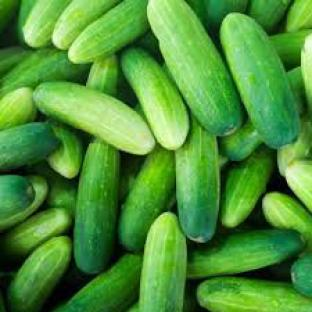Cucumber: (221, 13, 299, 148), (35, 82, 155, 153), (121, 48, 188, 149), (74, 139, 119, 274), (118, 146, 176, 250), (188, 229, 305, 278), (175, 117, 220, 242), (55, 254, 142, 311), (7, 236, 72, 311), (139, 213, 187, 311), (221, 146, 275, 227), (0, 49, 88, 95), (0, 208, 72, 263), (197, 278, 311, 311), (0, 123, 59, 170), (0, 175, 48, 231), (28, 163, 77, 217), (263, 192, 311, 246), (48, 121, 84, 178), (278, 116, 311, 176), (220, 120, 262, 160), (0, 175, 34, 224), (0, 88, 37, 130), (271, 30, 311, 67), (286, 160, 311, 212), (86, 56, 119, 95), (120, 156, 144, 202), (0, 46, 30, 76), (288, 67, 306, 115), (292, 254, 311, 296), (301, 34, 311, 110), (138, 31, 162, 61), (184, 283, 202, 311), (220, 154, 230, 170), (0, 292, 6, 311), (127, 303, 138, 311)
